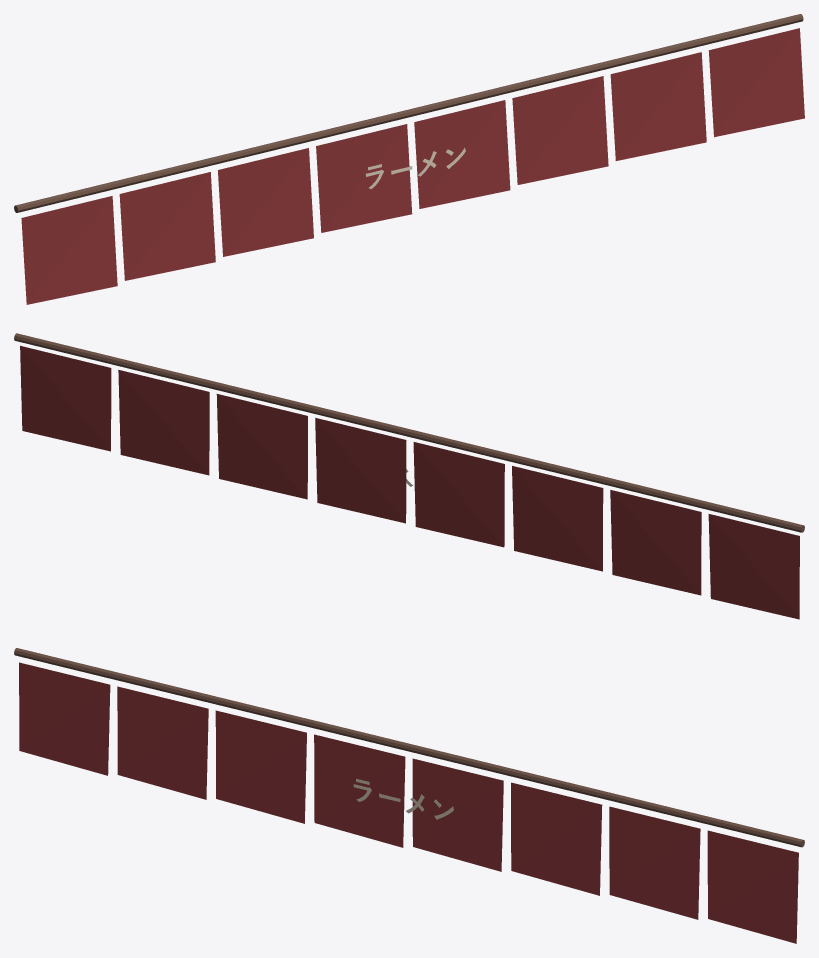
Rendered from SM_Ramen_Noren.fbx.
3 views of the same model, one above another, from view 1: azimuth 30°, elevation 25°; view 2: azimuth 150°, elevation 25°; view 3: azimuth 330°, elevation 25° (orthographic).
Parts seen in each view (by area): view 1: SM_Ramen_Noren; view 2: SM_Ramen_Noren; view 3: SM_Ramen_Noren.
Boxes of the visible parts, x1,y1,x2,y2 form: SM_Ramen_Noren: (14, 14, 804, 304); SM_Ramen_Noren: (14, 333, 804, 619); SM_Ramen_Noren: (14, 648, 804, 943).
Size of the model in its own units: 5.6 by 0.1044 by 0.685.
